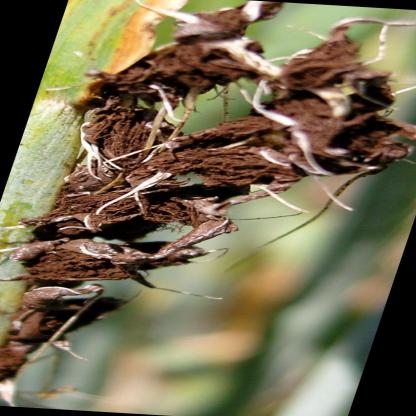Wheat Smut: (298, 60, 379, 160), (90, 133, 281, 175), (70, 174, 234, 205), (21, 245, 172, 273), (36, 210, 146, 235), (22, 287, 108, 315), (105, 77, 204, 99), (156, 45, 223, 72), (16, 319, 70, 341), (190, 13, 234, 35), (247, 108, 285, 127), (316, 40, 352, 56), (244, 2, 271, 20), (2, 350, 20, 374), (390, 125, 406, 152), (244, 180, 275, 193), (136, 59, 150, 71)
